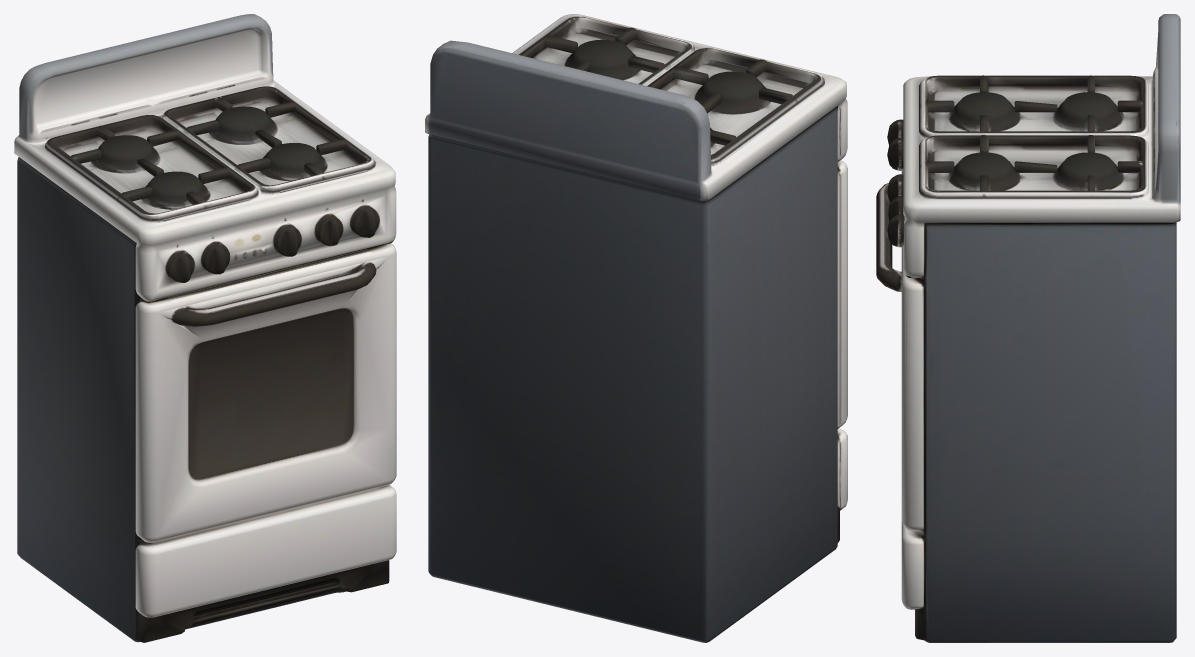
The model's file is stove_everyday_realistic_style_ceb07c35_v2.glb.
The picture shows the model from 3 angles, left to right: view 1: azimuth 30°, elevation 25°; view 2: azimuth 150°, elevation 25°; view 3: azimuth 270°, elevation 25°; orthographic projection. The views are drawn at different scales.
Visible parts, largest first — view 1: mesh_input; view 2: mesh_input; view 3: mesh_input.
Part boxes in pixels (box(x1,y1,x2,y2)): mesh_input: box(14, 14, 396, 642); mesh_input: box(425, 14, 847, 642); mesh_input: box(876, 14, 1180, 642).
Bounding box in the file's own units: 1.05 × 1.9 × 1.03.
1 material, 1 textured.
